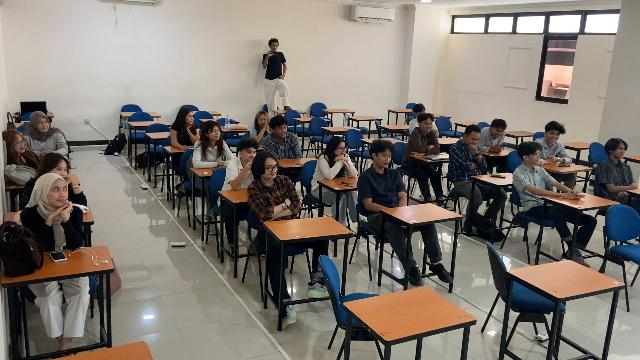senang: (50, 184, 68, 205), (13, 137, 27, 154), (265, 162, 279, 179), (37, 118, 51, 133), (54, 164, 67, 180), (380, 151, 392, 168), (422, 119, 433, 134), (245, 148, 256, 162), (548, 131, 560, 143), (615, 145, 626, 158), (211, 127, 221, 141), (276, 125, 287, 137), (492, 127, 504, 138), (530, 152, 541, 164), (337, 144, 347, 156), (186, 111, 194, 124)
